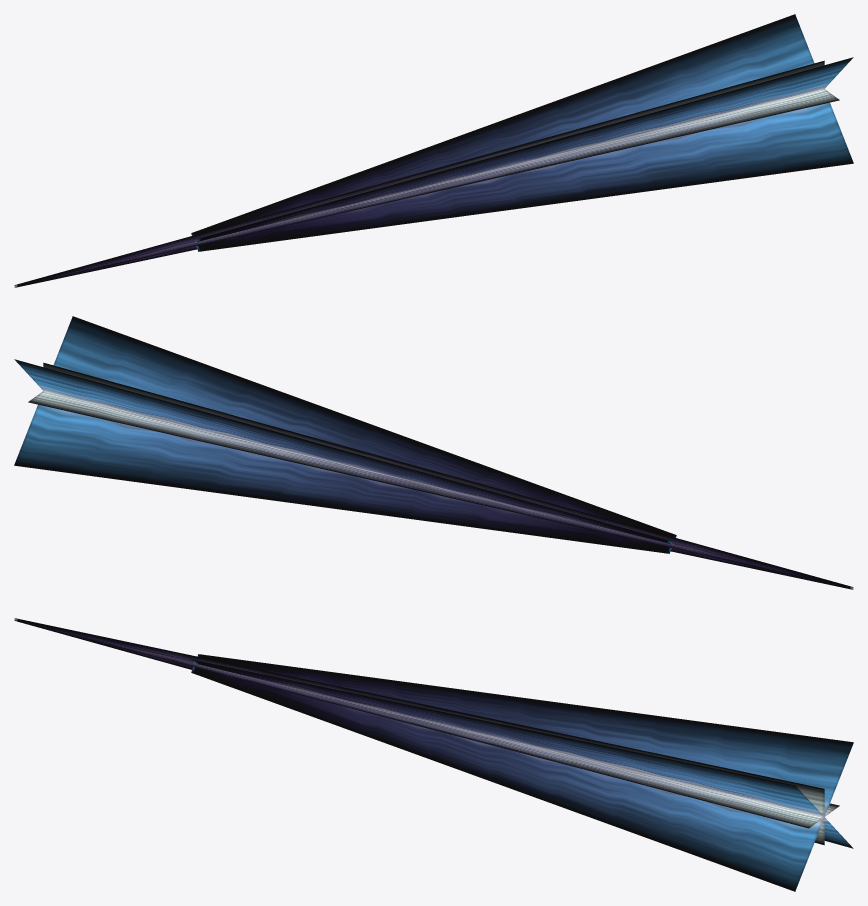
Rendered from missile_trail.glb.
3 views of the same model, one above another, from view 1: azimuth 30°, elevation 25°; view 2: azimuth 150°, elevation 25°; view 3: azimuth 330°, elevation 25° (orthographic).
Visible parts, largest first — view 1: trail_glow, trail_core; view 2: trail_glow, trail_core; view 3: trail_glow, trail_core.
Boxes of the visible parts, x1,y1,x2,y2 form: trail_glow: (191,14,853,251); trail_core: (14,60,839,287); trail_glow: (14,316,676,553); trail_core: (28,362,853,589); trail_glow: (191,654,853,891); trail_core: (14,618,839,845).
Size of the model in its own units: 9 by 1.13 by 1.13.
2 materials, 2 textured.
